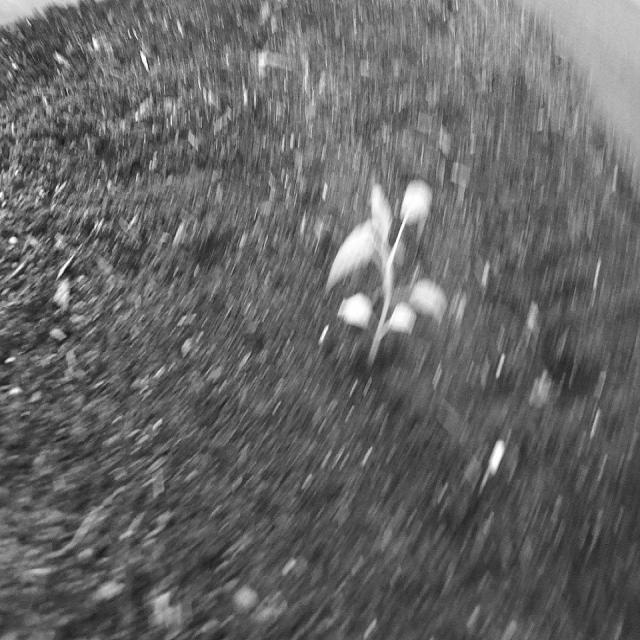Healthy: (318, 154, 456, 395)
